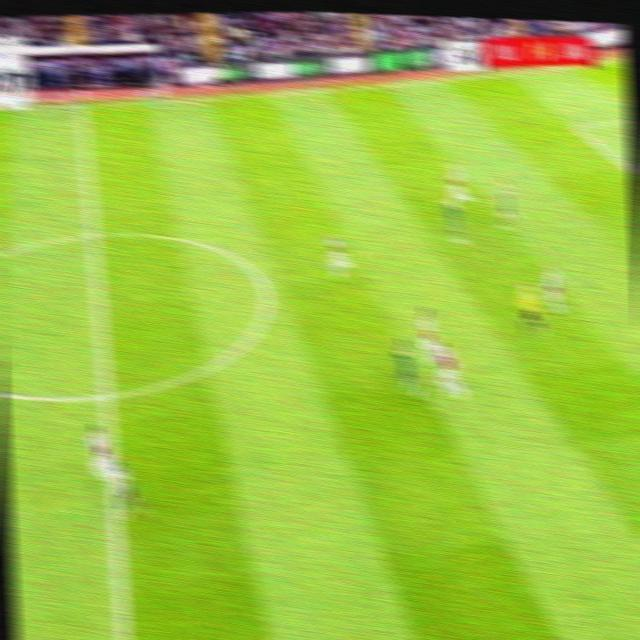bigarea_top_inner: (565, 114, 590, 139)
halfcircle_bottom: (88, 371, 127, 419)
halfcircle_top: (76, 214, 112, 254)
midline_top_intersection: (70, 92, 98, 120)
